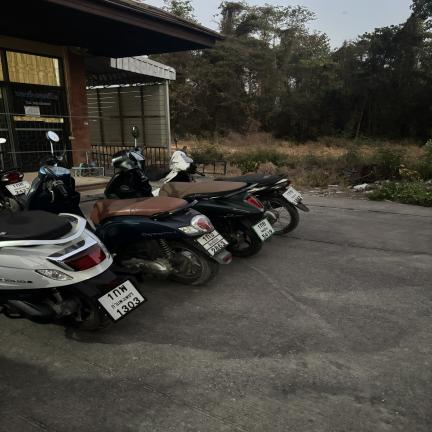0: (125, 300, 136, 309)
1: (105, 292, 115, 301), (114, 308, 124, 317), (201, 236, 208, 242), (256, 224, 261, 229), (266, 231, 271, 235), (286, 192, 291, 196), (293, 200, 297, 203)
2: (210, 248, 218, 254)
3: (118, 304, 130, 313), (131, 296, 142, 305), (219, 240, 226, 246)
4: (264, 232, 269, 237)
5: (261, 234, 267, 239)
6: (217, 242, 223, 249)
7: (297, 195, 301, 199)
8: (213, 245, 220, 251), (295, 198, 298, 202), (296, 197, 300, 200)
9: (268, 229, 273, 234)
A01: (110, 288, 122, 298), (204, 234, 212, 240), (259, 223, 264, 228), (287, 191, 292, 195)
A02: (289, 189, 294, 193)
A24: (208, 232, 216, 237)
A30: (117, 284, 129, 293)
A34: (261, 221, 267, 226)
KPT: (109, 291, 135, 310)
PLK: (206, 237, 220, 247), (259, 226, 270, 233), (290, 193, 298, 199)
